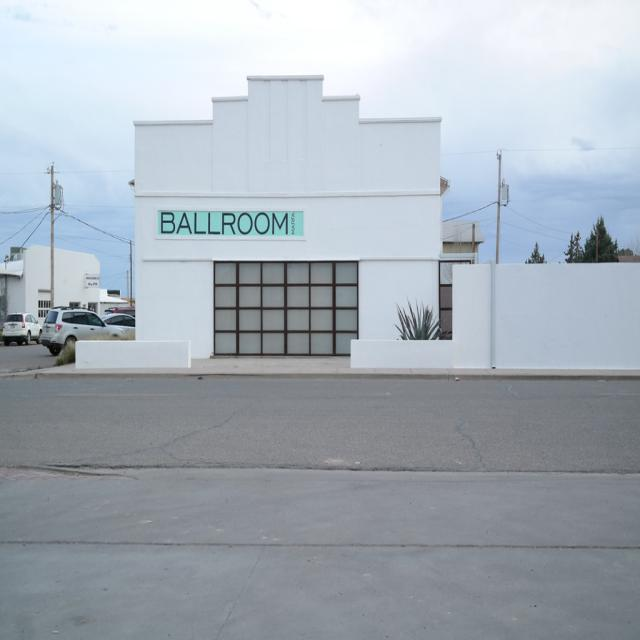car: (21, 299, 114, 355)
